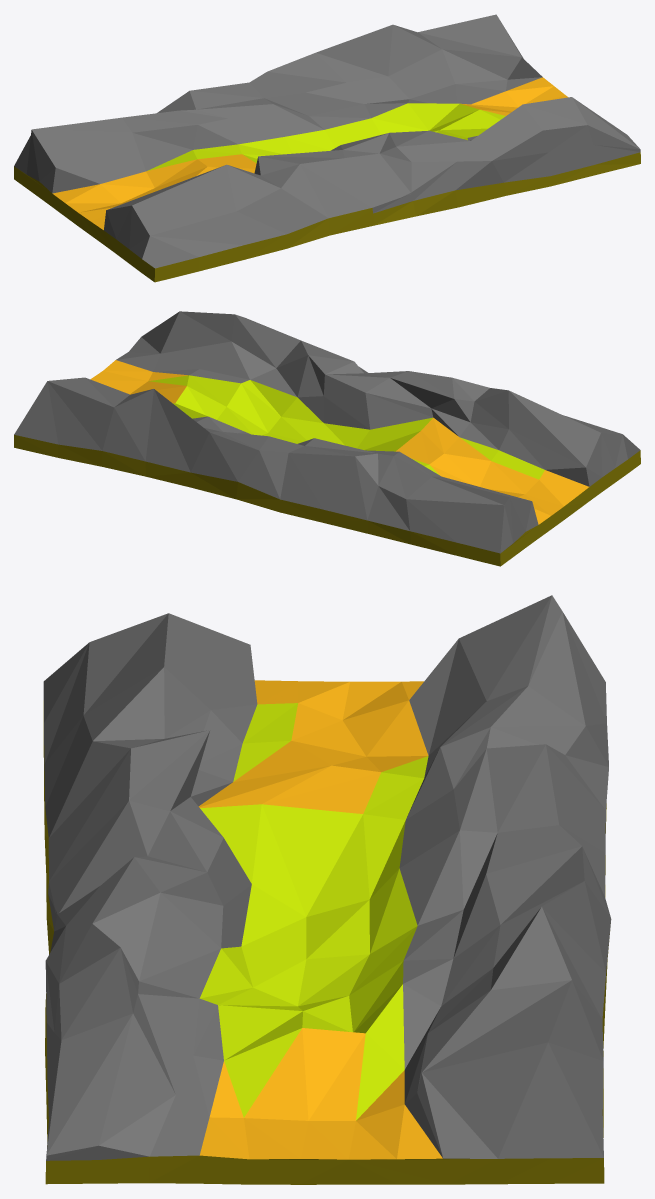
File: PlaneAutumn4.fbx
3 renders of one model, top to bottom at view 1: azimuth 30°, elevation 25°; view 2: azimuth 150°, elevation 25°; view 3: azimuth 270°, elevation 25°, orthographic. The views are drawn at different scales.
Parts seen in each view (by area): view 1: PlaneAutumn4.Cliffs, PlaneAutumn4.Floor, PlaneAutumn4.RoadEdge, PlaneAutumn4.Road; view 2: PlaneAutumn4.Cliffs, PlaneAutumn4.RoadEdge, PlaneAutumn4.Floor, PlaneAutumn4.Road; view 3: PlaneAutumn4.Cliffs, PlaneAutumn4.RoadEdge, PlaneAutumn4.Road, PlaneAutumn4.Floor.
Boxes of the visible parts, bbox=[...] form: PlaneAutumn4.Cliffs: bbox=[14, 14, 640, 268]; PlaneAutumn4.Floor: bbox=[14, 152, 640, 282]; PlaneAutumn4.RoadEdge: bbox=[147, 103, 505, 170]; PlaneAutumn4.Road: bbox=[52, 77, 567, 229]; PlaneAutumn4.Cliffs: bbox=[14, 311, 640, 553]; PlaneAutumn4.RoadEdge: bbox=[149, 375, 544, 479]; PlaneAutumn4.Floor: bbox=[14, 435, 640, 566]; PlaneAutumn4.Road: bbox=[90, 360, 588, 524]; PlaneAutumn4.Cliffs: bbox=[43, 595, 611, 1160]; PlaneAutumn4.RoadEdge: bbox=[199, 703, 428, 1120]; PlaneAutumn4.Road: bbox=[198, 680, 442, 1159]; PlaneAutumn4.Floor: bbox=[43, 700, 609, 1184].
Size of the model in its own units: 40102 by 6227 by 20207.
